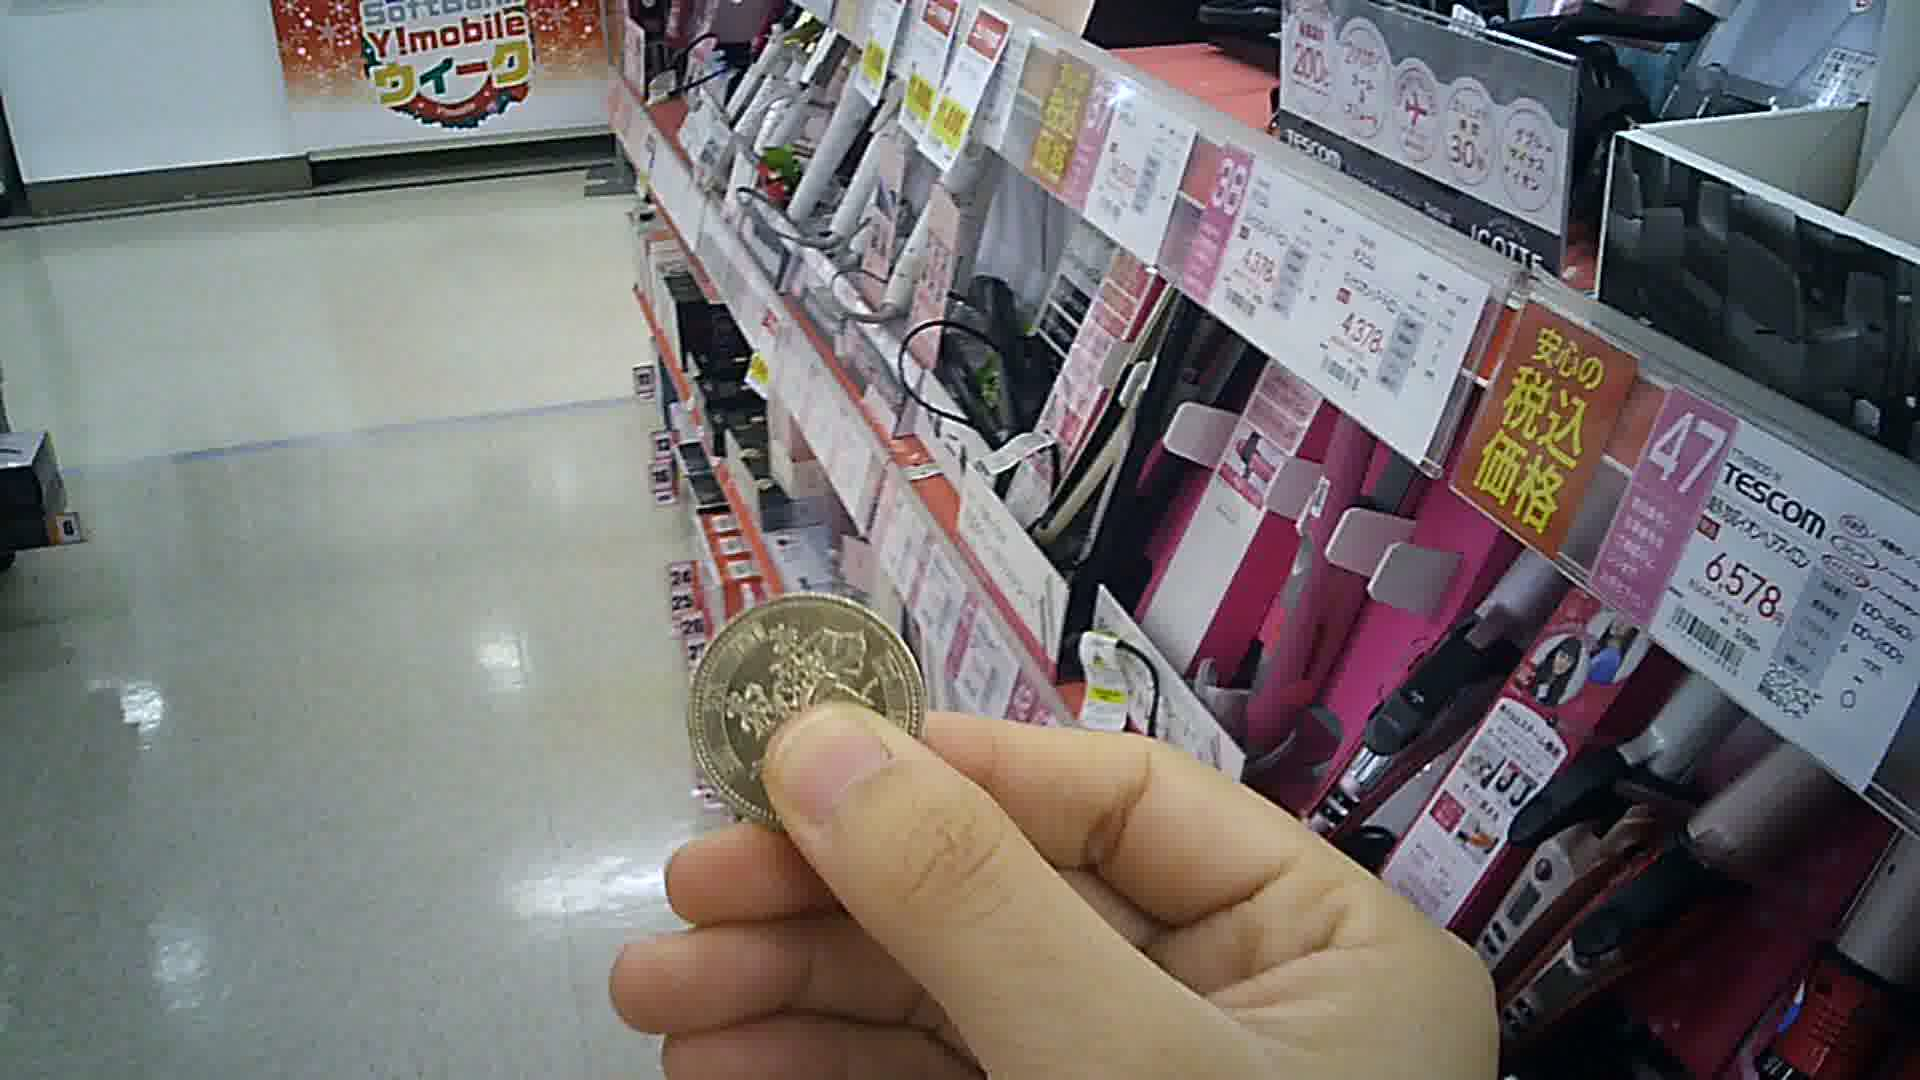500 Yen: (688, 585, 931, 829)
